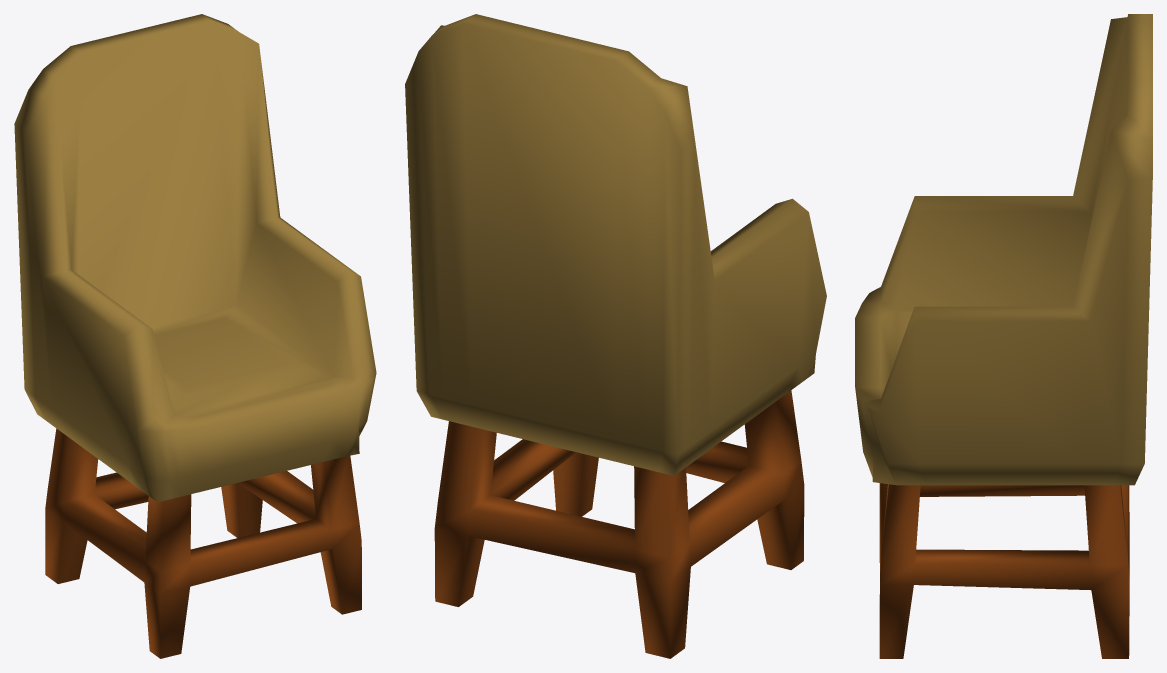
Rendered from officechair.fbx.
3 renders of one model, left to right at view 1: azimuth 30°, elevation 25°; view 2: azimuth 150°, elevation 25°; view 3: azimuth 270°, elevation 25°, orthographic. The views are drawn at different scales.
Visible parts, largest first — view 1: Cube.001, Cube; view 2: Cube.001, Cube; view 3: Cube.001, Cube.
Part boxes in pixels (left/top/right/bottom): Cube.001: left=14, top=14, right=376, bottom=502; Cube: left=45, top=428, right=361, bottom=658; Cube.001: left=405, top=14, right=826, bottom=475; Cube: left=434, top=390, right=804, bottom=658; Cube.001: left=855, top=14, right=1152, bottom=485; Cube: left=879, top=483, right=1129, bottom=658.
Size of the model in its own units: 215 by 444 by 215.
